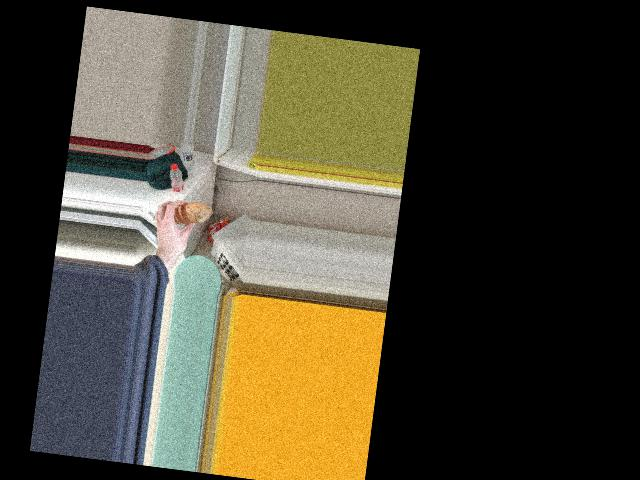sweet_potato: (168, 197, 204, 232)
